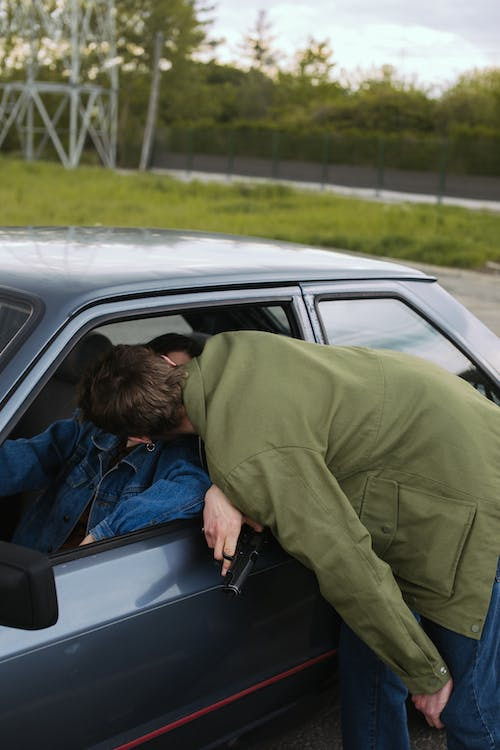gun: (197, 521, 267, 597)
